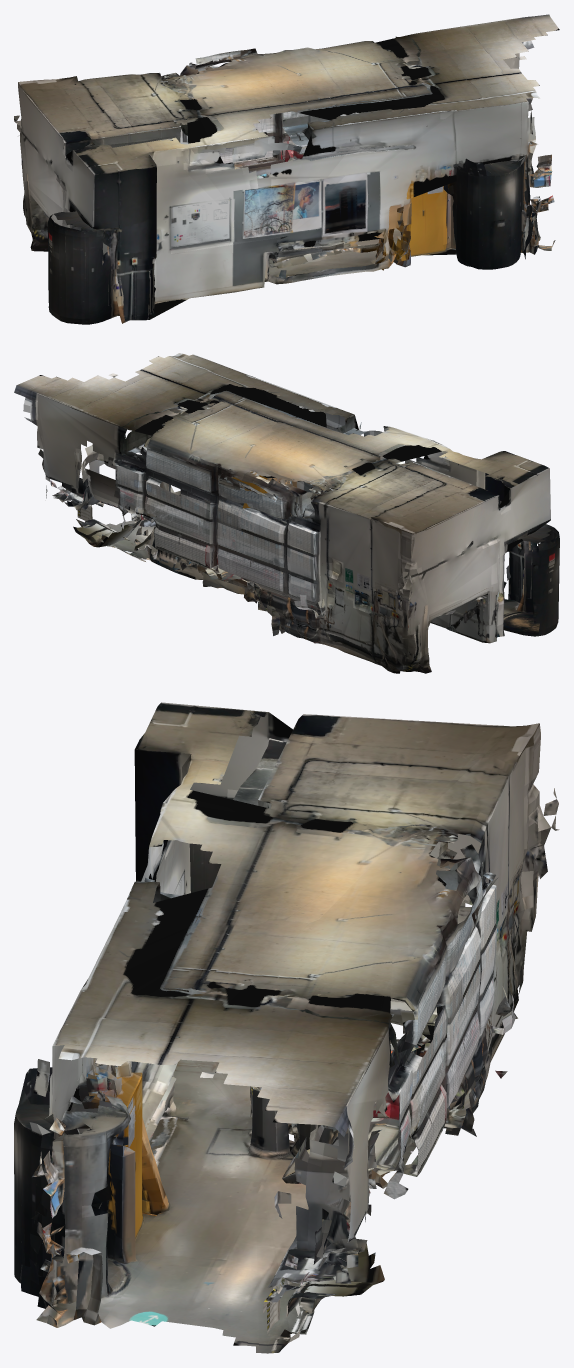
The model's file is MG_photo_area_1-IM.fbx.
The picture shows the model from 3 angles, top to bottom: view 1: azimuth 30°, elevation 25°; view 2: azimuth 150°, elevation 25°; view 3: azimuth 270°, elevation 25°; orthographic projection. The views are drawn at different scales.
Parts seen in each view (by area): view 1: MG_photo_area_1-IM; view 2: MG_photo_area_1-IM; view 3: MG_photo_area_1-IM.
Boxes of the visible parts, x1,y1,x2,y2 form: MG_photo_area_1-IM: [14, 14, 559, 324]; MG_photo_area_1-IM: [14, 353, 559, 673]; MG_photo_area_1-IM: [14, 702, 559, 1353].
Bounding box in the file's own units: 1146 × 337 × 593.
Materials: 1 (1 with a texture image).
